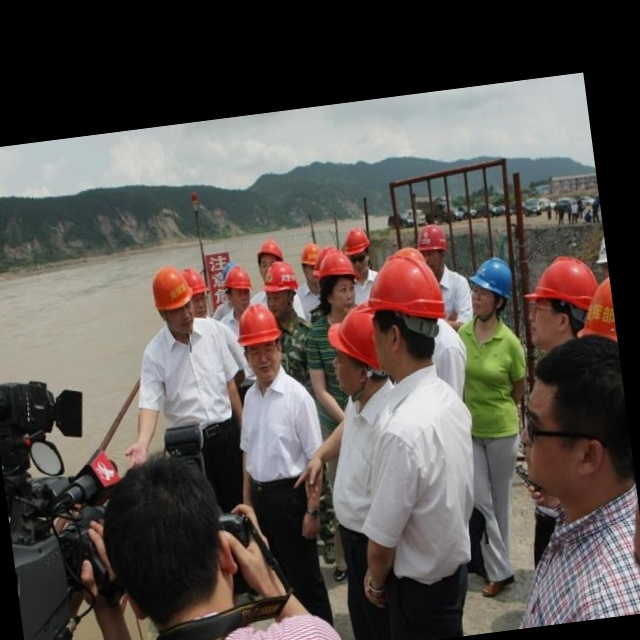Con_Casco: (236, 302, 284, 374), (150, 265, 199, 335), (468, 256, 514, 321)
Sin_Chaleco: (374, 366, 492, 591), (233, 369, 327, 489)
